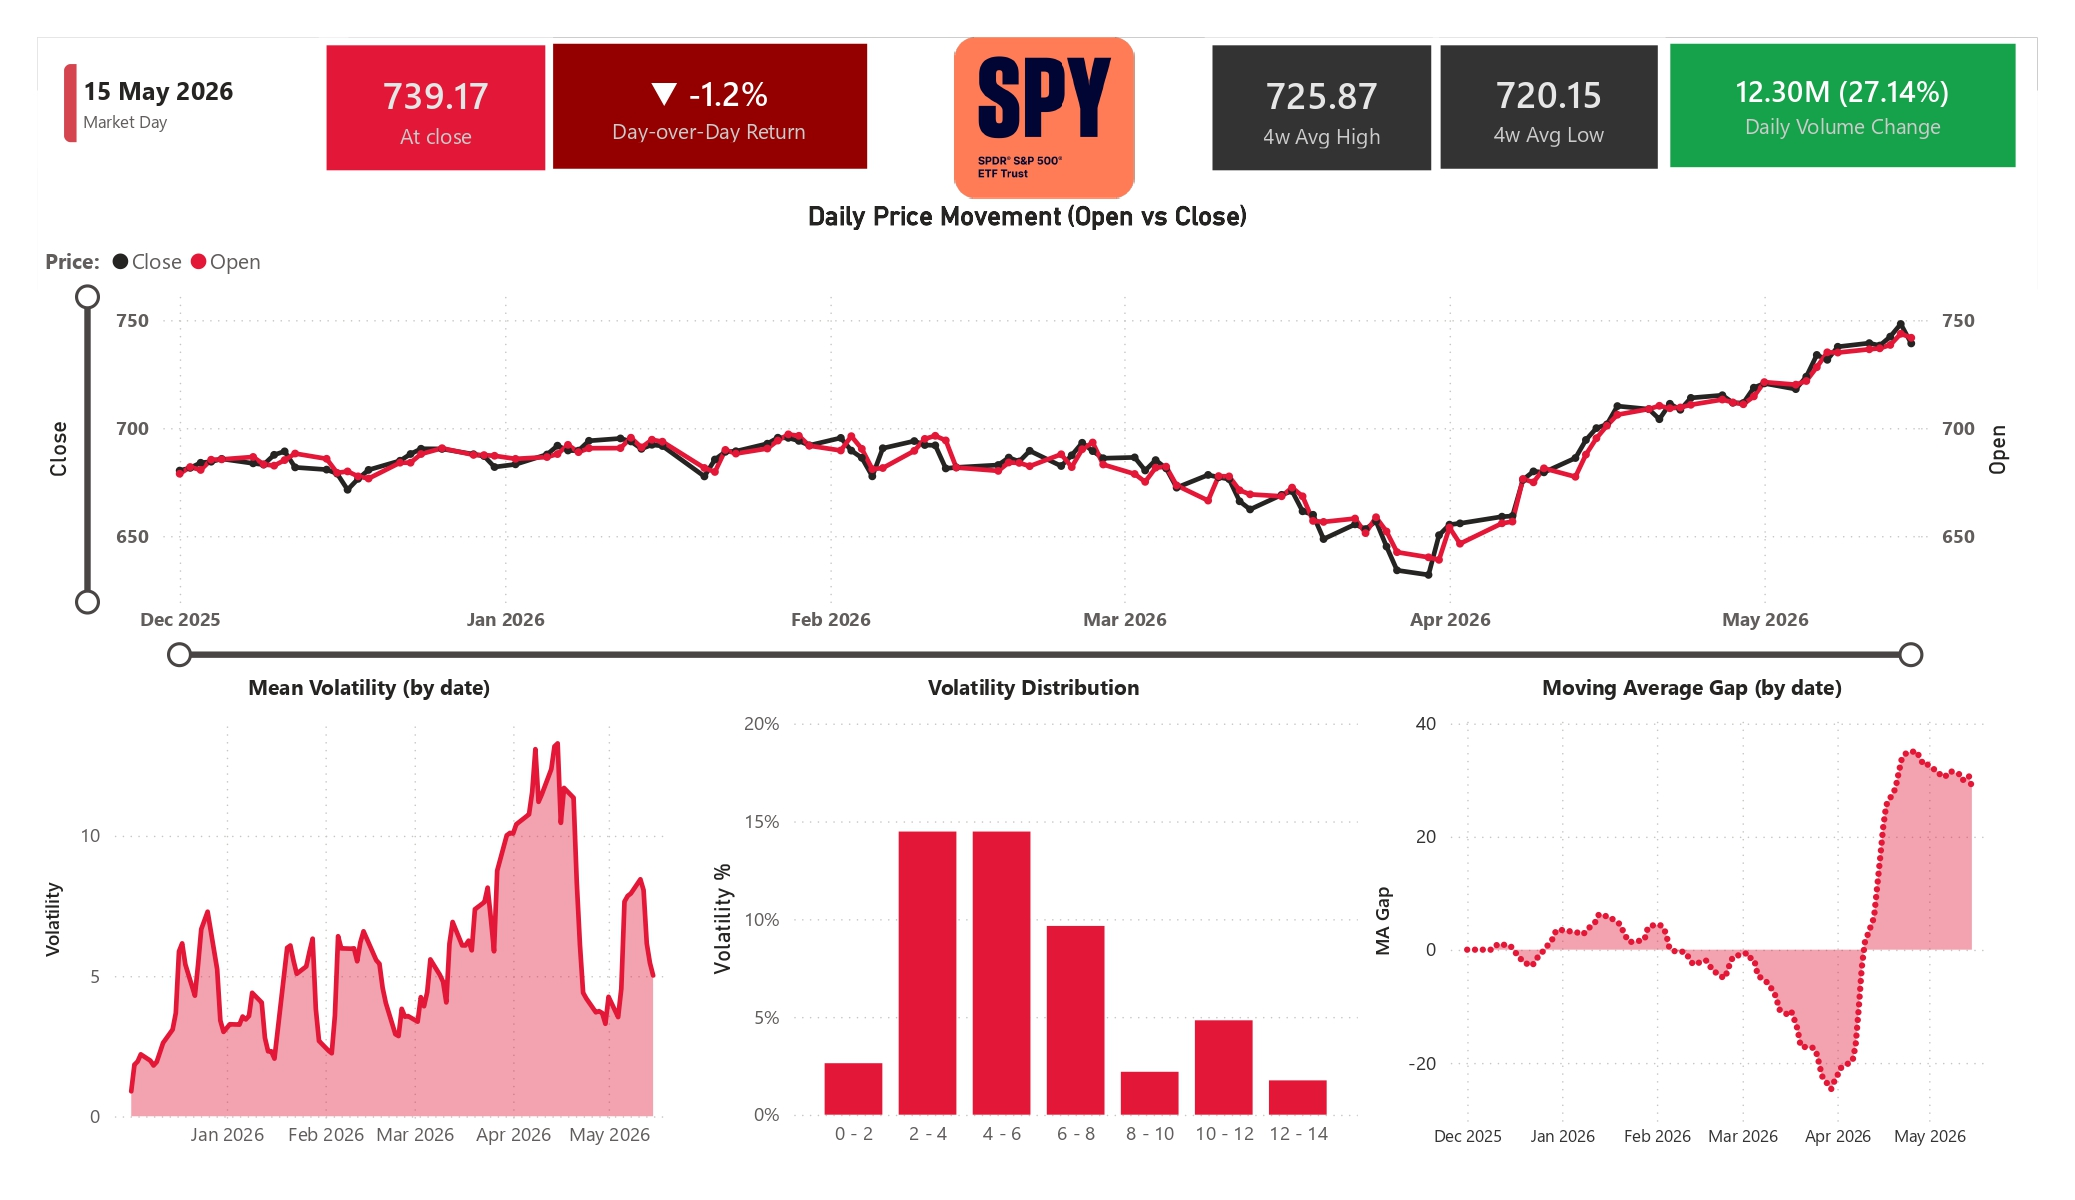

This screenshot's page, from the dashboard's own definition file:
{"tool":"powerbi","page":{"name":"SPY","canvas":[1280,720],"ordinal":2},"visuals":[{"type":"lineChart","title":"Daily Price Movement (Open vs Close)","fields":{"Y2":["Sum(fct_stock_metrics.open)"],"Category":["DateTable.Date"],"Y":["Sum(fct_stock_metrics.close)"]},"box":[0,104,1267,302],"z":0},{"type":"clusteredColumnChart","title":"Volatility Distribution","fields":{"Category":["fct_stock_metrics.Volatility Bin (2 Range)"],"Y":["fct_stock_metrics.Volatility %"]},"box":[425,407,425,312],"z":1000},{"type":"image","box":[552.7,0,182.9,103.4],"z":2000},{"type":"cardVisual","fields":{"Data":["Max(DateTable.Date)"]},"box":[0,0,199,84],"z":3000},{"type":"cardVisual","fields":{"Data":["fct_stock_metrics.4w Avg High (SPY)"]},"box":[747,0,150,90],"z":4000},{"type":"cardVisual","fields":{"Data":["fct_stock_metrics.4w Avg Low (SPY)"]},"box":[893,0,149,89],"z":5000},{"type":"cardVisual","fields":{"Data":["fct_stock_metrics.Volume Change Summary (SPY)"]},"box":[1045,4,221,79],"z":6000},{"type":"cardVisual","fields":{"Data":["fct_stock_metrics.Return Indicator (SPY)"]},"box":[329,4,202,80],"z":7000},{"type":"areaChart","title":"Mean Volatility (by date)","fields":{"Category":["DateTable.Date"],"Y":["Avg(fct_stock_metrics.volatility_7)"]},"box":[0,407,425.3,313],"z":8000},{"type":"cardVisual","fields":{"Data":["Sum(fct_stock_metrics.close)"]},"box":[179.7,0,150,90],"z":9000},{"type":"areaChart","title":"Moving Average Gap (by date)","fields":{"Category":["DateTable.Date"],"Y":["fct_stock_metrics.MA Gap"]},"box":[850.6,407,416.4,313.1],"z":10000}]}

Visuals, with their boxes on the page's 1280x720 design canvas (x1, y1, x2, y2). These are canvas units, not pixel positions in the 2075x1200 screenshot, which may show the page scaled, cropped or inside an application window:
"Daily Price Movement (Open vs Close)" lineChart: [0,104,1267,406]
"Volatility Distribution" clusteredColumnChart: [425,407,850,719]
image: [553,0,736,103]
cardVisual - Max(DateTable.Date): [0,0,199,84]
cardVisual - fct_stock_metrics.4w Avg High (SPY): [747,0,897,90]
cardVisual - fct_stock_metrics.4w Avg Low (SPY): [893,0,1042,89]
cardVisual - fct_stock_metrics.Volume Change Summary (SPY): [1045,4,1266,83]
cardVisual - fct_stock_metrics.Return Indicator (SPY): [329,4,531,84]
"Mean Volatility (by date)" areaChart: [0,407,425,720]
cardVisual - Sum(fct_stock_metrics.close): [180,0,330,90]
"Moving Average Gap (by date)" areaChart: [851,407,1267,720]
